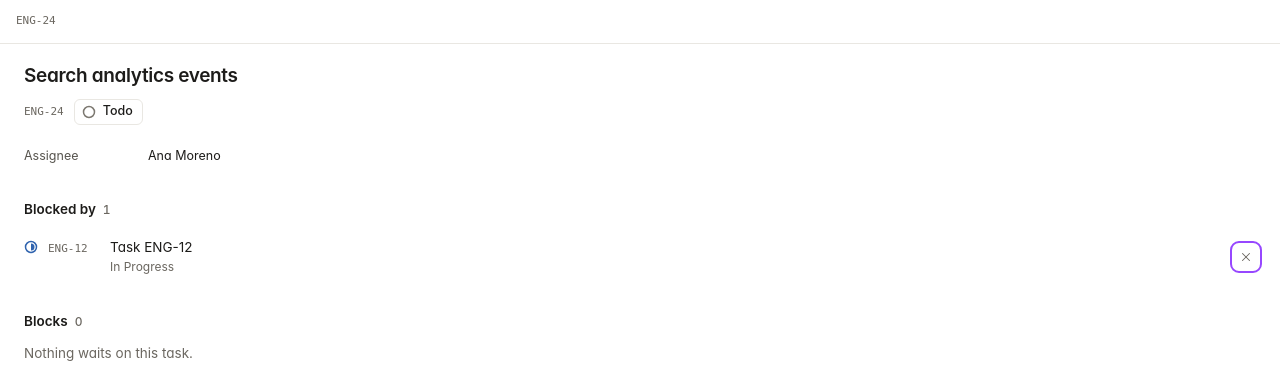
Test: TaskRelationList: async removal › without a control in the section, the last row hands focus to the heading
Click the button named "Remove ENG-12": click(1246, 257) [1233,244,1259,270]
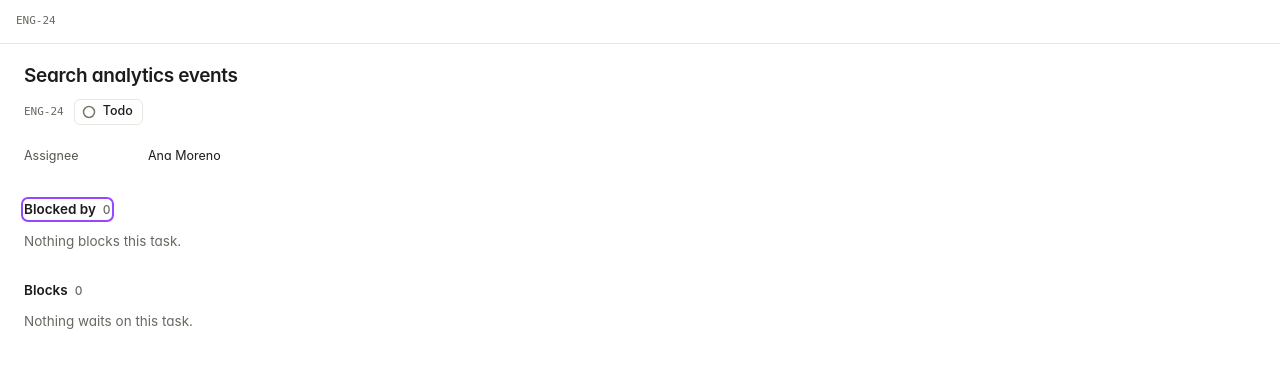
Now the heading "Blocked by0" has attribute tabindex="-1", box [24,200,111,219]
